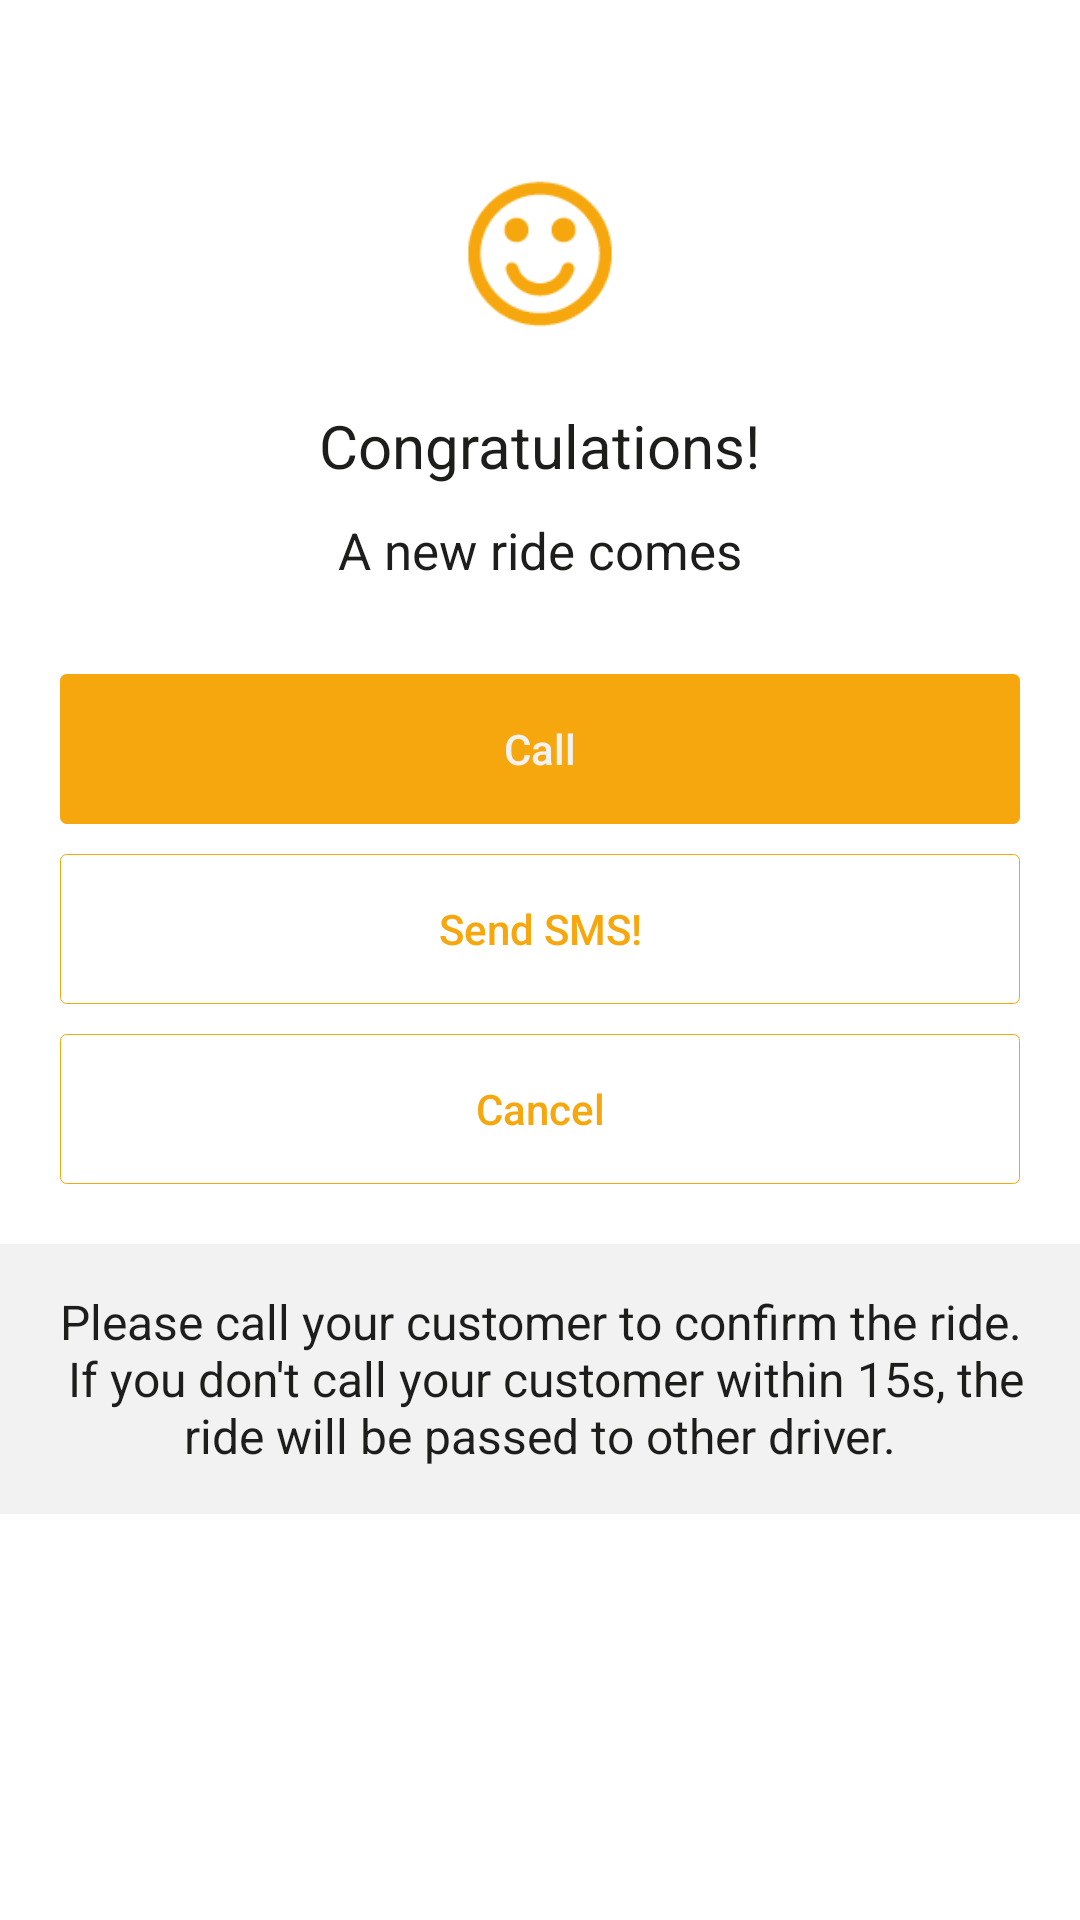

Locate icon controls on the screen. Image size 1080 × 1920, boxes as (x1, y1, x2, y2).
smile: (468, 181, 612, 327)
